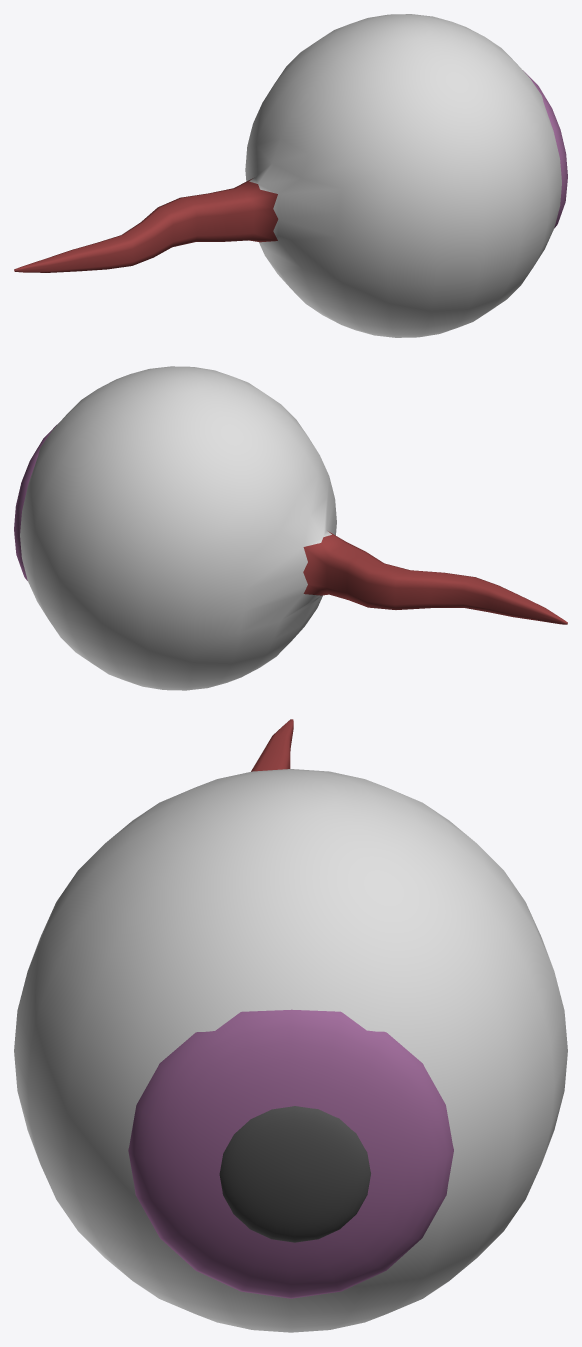
File: witches eye.fbx
3 views of the same model, one above another, from view 1: azimuth 30°, elevation 25°; view 2: azimuth 150°, elevation 25°; view 3: azimuth 270°, elevation 25° (orthographic). The views are drawn at different scales.
Visible parts, largest first — view 1: pSphere4; view 2: pSphere4; view 3: pSphere4.
Part boxes in pixels (box(x1,y1,x2,y2)): pSphere4: box(14, 14, 567, 337); pSphere4: box(14, 366, 567, 690); pSphere4: box(14, 719, 567, 1332).
Size of the model in its own units: 10.44 by 5.54 by 5.39.
